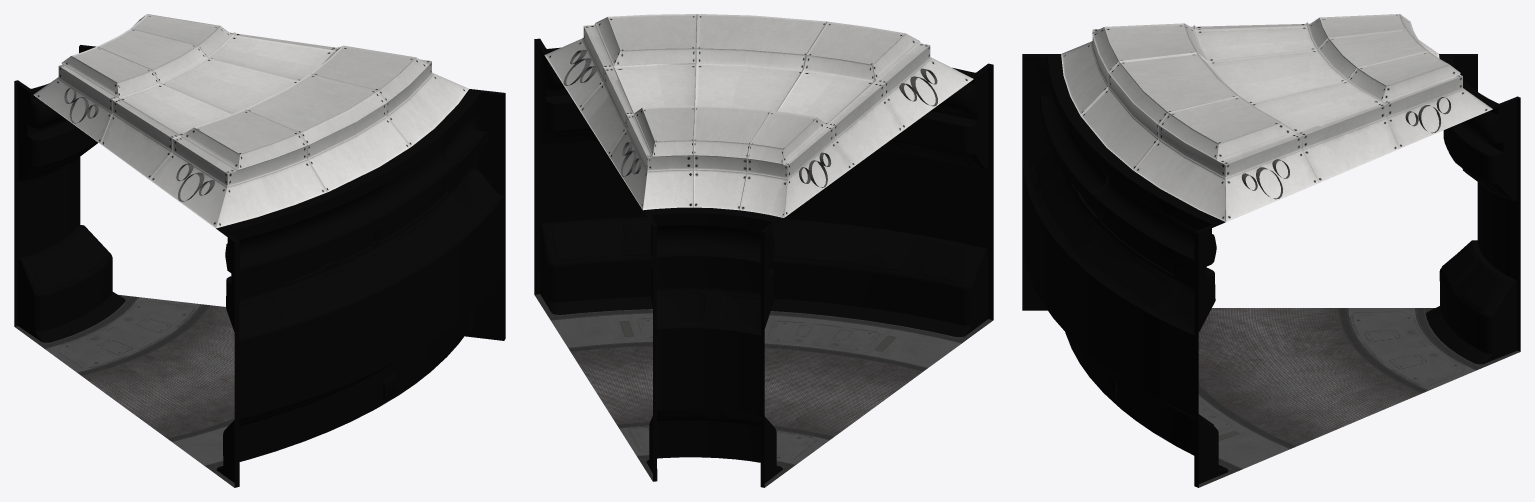
Rendered from HallwayCornerB.fbx.
3 renders of one model, left to right at view 1: azimuth 30°, elevation 25°; view 2: azimuth 150°, elevation 25°; view 3: azimuth 270°, elevation 25°, orthographic. The views are drawn at different scales.
Parts seen in each view (by area): view 1: HallwayCornerB001; view 2: HallwayCornerB001; view 3: HallwayCornerB001.
Boxes of the visible parts, <box> form: HallwayCornerB001: <box>14,14,505,487</box>; HallwayCornerB001: <box>534,14,993,487</box>; HallwayCornerB001: <box>1022,14,1520,487</box>.
Size of the model in its own units: 607 by 478 by 711.
